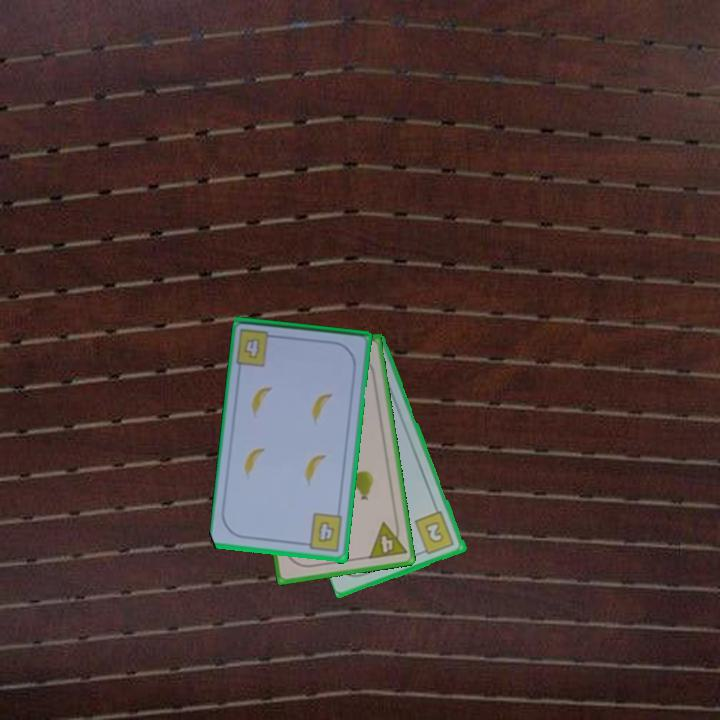2b: (411, 508, 457, 558)
4b: (300, 511, 345, 555), (240, 335, 263, 362)
4p: (365, 517, 409, 562)
